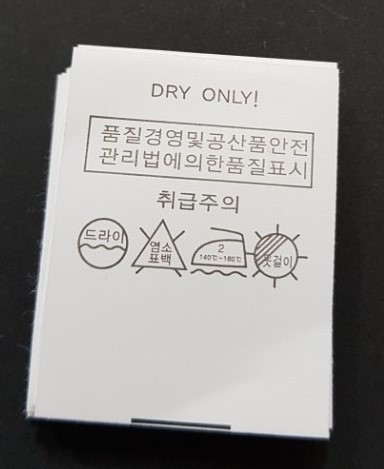KR_dry_clean: (74, 214, 131, 273)
KR_hang_dry_in_shade: (248, 228, 303, 285)
KR_iron_medium_temp_with_cloth: (189, 224, 248, 282)
KR_no_chlorine_bleach: (132, 216, 188, 279)
